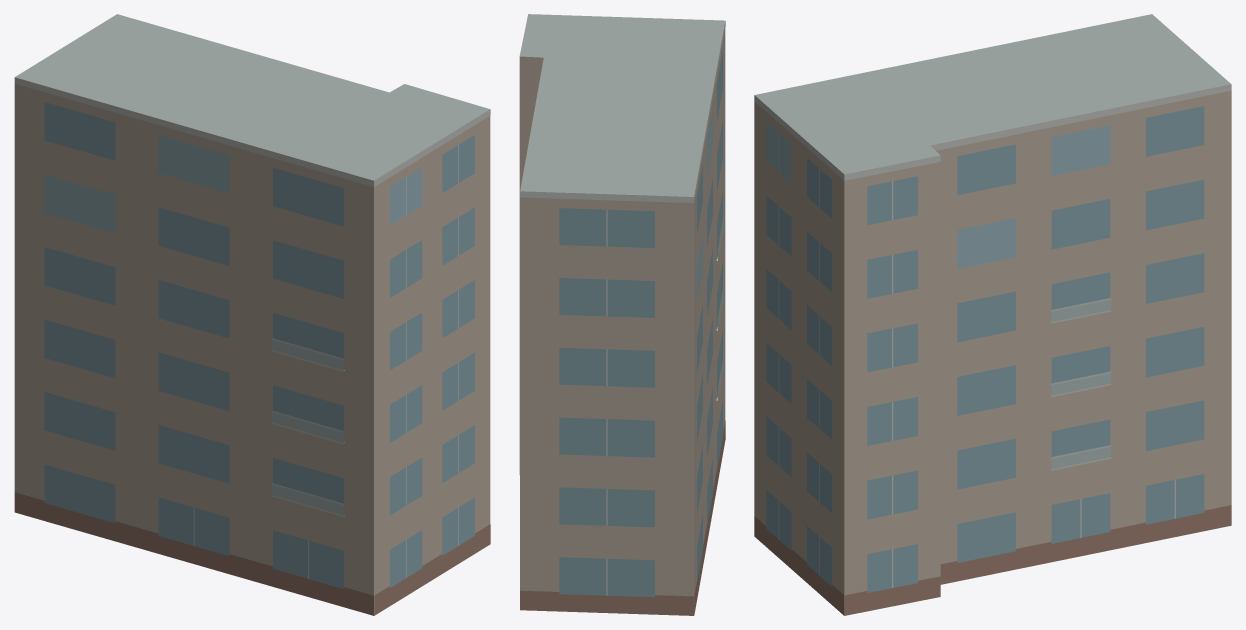
The model's file is survey-upis-32865376.glb.
3 views of the same model, side by side, from view 1: azimuth 30°, elevation 25°; view 2: azimuth 150°, elevation 25°; view 3: azimuth 270°, elevation 25° (orthographic). The views are drawn at different scales.
Visible parts, largest first — view 1: survey-upis-32865376.tmp; view 2: survey-upis-32865376.tmp; view 3: survey-upis-32865376.tmp.
Part boxes in pixels (bbox=[...]): survey-upis-32865376.tmp: bbox=[14, 14, 490, 615]; survey-upis-32865376.tmp: bbox=[519, 14, 725, 615]; survey-upis-32865376.tmp: bbox=[754, 14, 1231, 615].
Bounding box in the file's own units: 13.01 × 16.68 × 16.35.
